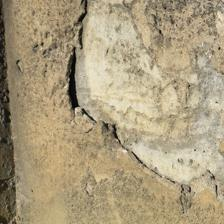Crack: (30, 3, 187, 184)
